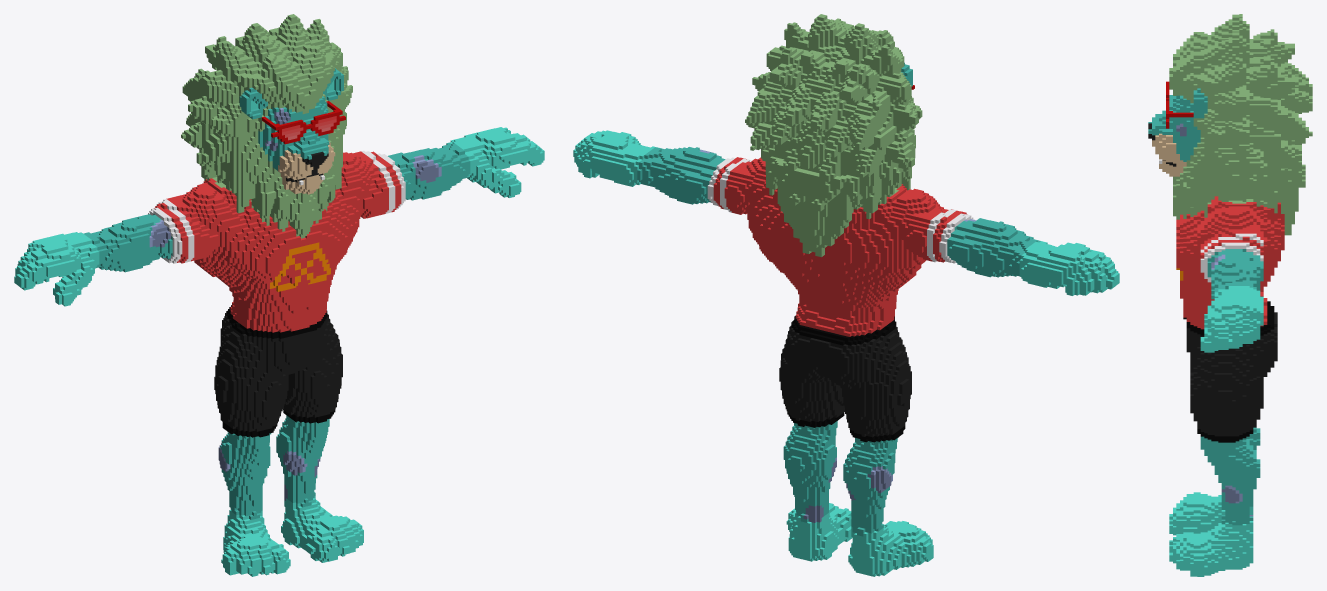
File: 75-BafeQz0Q.glb
3 renders of one model, left to right at view 1: azimuth 30°, elevation 25°; view 2: azimuth 150°, elevation 25°; view 3: azimuth 270°, elevation 25°, orthographic. The views are drawn at different scales.
Parts seen in each view (by area): view 1: standard; view 2: standard; view 3: standard.
Boxes of the visible parts, bbox=[...] form: standard: bbox=[14, 14, 544, 576]; standard: bbox=[573, 14, 1119, 576]; standard: bbox=[1148, 14, 1312, 576].
Bounding box in the file's own units: 17.2 × 16.5 × 4.7.
Materials: 5 (5 with a texture image).
